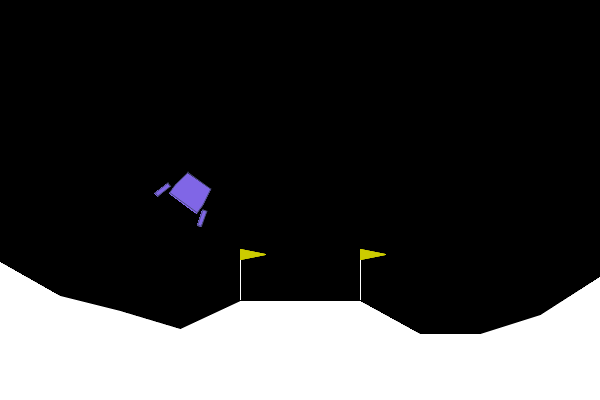lander: (152, 162, 224, 230)
